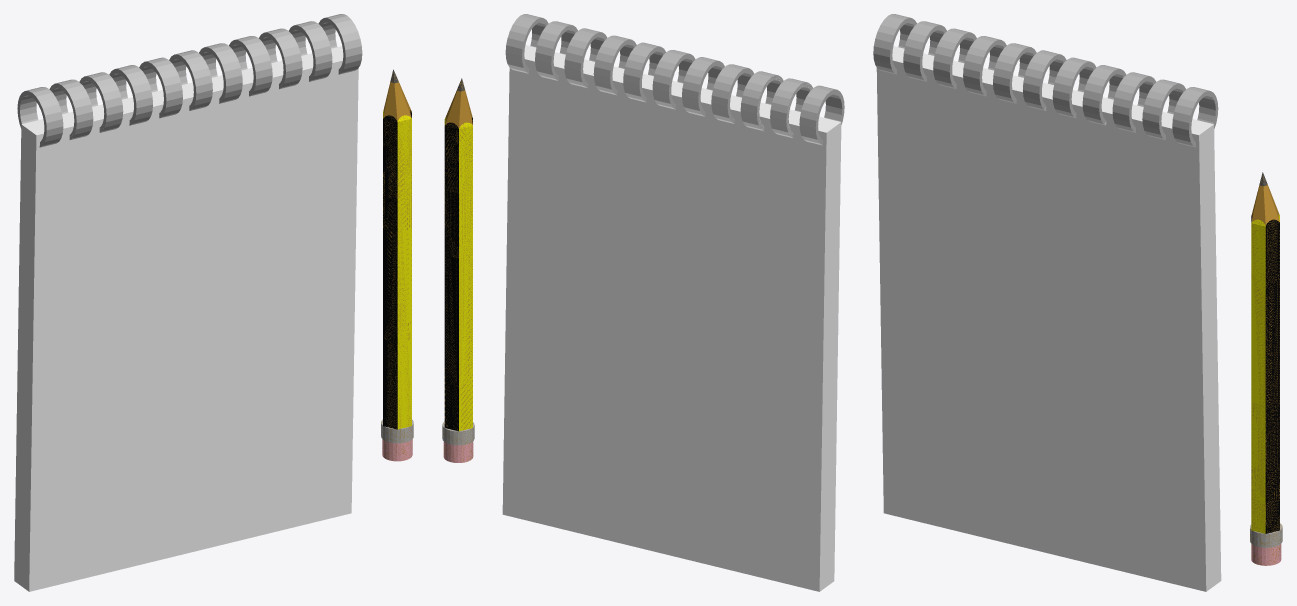
3 views of the same model, side by side, from view 1: azimuth 30°, elevation 25°; view 2: azimuth 150°, elevation 25°; view 3: azimuth 330°, elevation 25° (orthographic).
Visible parts, largest first — view 1: notepad and pencil; view 2: notepad and pencil; view 3: notepad and pencil.
Part boxes in pixels (bbox=[...]): notepad and pencil: bbox=[14, 14, 413, 591]; notepad and pencil: bbox=[442, 14, 844, 591]; notepad and pencil: bbox=[873, 14, 1282, 591].
Bounding box in the file's own units: 352 × 430 × 45.95.
